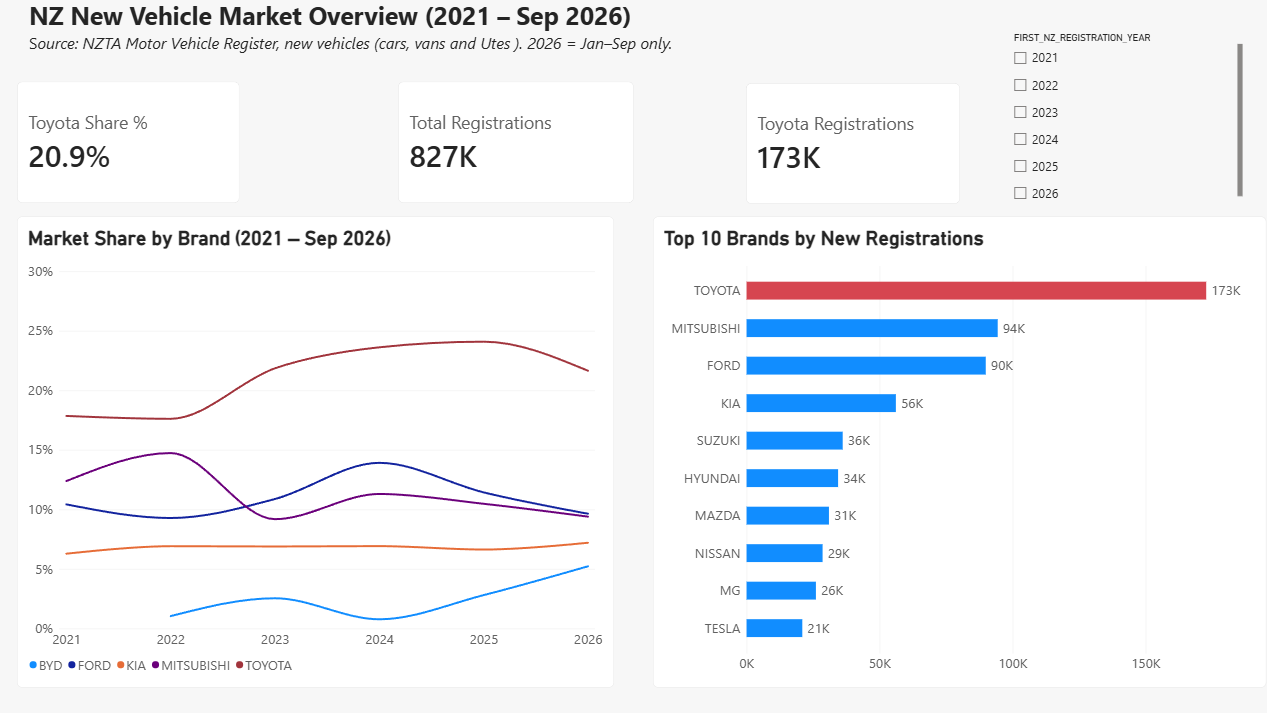

Layout of this report page (visuals, bound fields, positions):
{"tool":"powerbi","page":{"name":"Market Overview","canvas":[1920,1080],"ordinal":0},"visuals":[{"type":"cardVisual","fields":{"Data":["Sales.Toyota Share %"]},"box":[27.3,124.9,337.3,184.3],"z":0},{"type":"slicer","fields":{"Values":["Sales.FIRST_NZ_REGISTRATION_YEAR"]},"box":[1527.9,51,354.3,260.8],"z":1000},{"type":"cardVisual","fields":{"Data":["Sales.Total Registrations"]},"box":[604.2,124.9,357.2,184.3],"z":2000},{"type":"cardVisual","fields":{"Data":["Sales.Toyota Registrations"]},"box":[1131.1,127.2,324.8,184],"z":3000},{"type":"textbox","box":[45.4,0,1058.4,102.2],"z":4000},{"type":"lineChart","title":"Market Share by Brand (2021 – Sep 2026)","fields":{"Category":["Sales.FIRST_NZ_REGISTRATION_YEAR"],"Series":["Sales.MAKE"],"Y":["Sales.Market Share %"]},"box":[27.3,329.3,904,713.2],"z":5000},{"type":"clusteredBarChart","title":"Top 10 Brands by New Registrations","fields":{"Category":["Sales.MAKE"],"Y":["Sales.Total Registrations"]},"box":[990.3,329.3,929,713.2],"z":6000}]}

Visuals, with their boxes in screenshot pixels (x1, y1, x2, y2), scaled from the page's 1920x1080 canvas onto the 1267x713 screenshot:
cardVisual - Sales.Toyota Share %: box=[18, 82, 241, 204]
slicer - Sales.FIRST_NZ_REGISTRATION_YEAR: box=[1008, 34, 1242, 206]
cardVisual - Sales.Total Registrations: box=[399, 82, 634, 204]
cardVisual - Sales.Toyota Registrations: box=[746, 84, 961, 205]
textbox: box=[30, 0, 728, 67]
"Market Share by Brand (2021 – Sep 2026)" lineChart: box=[18, 217, 615, 688]
"Top 10 Brands by New Registrations" clusteredBarChart: box=[653, 217, 1266, 688]
